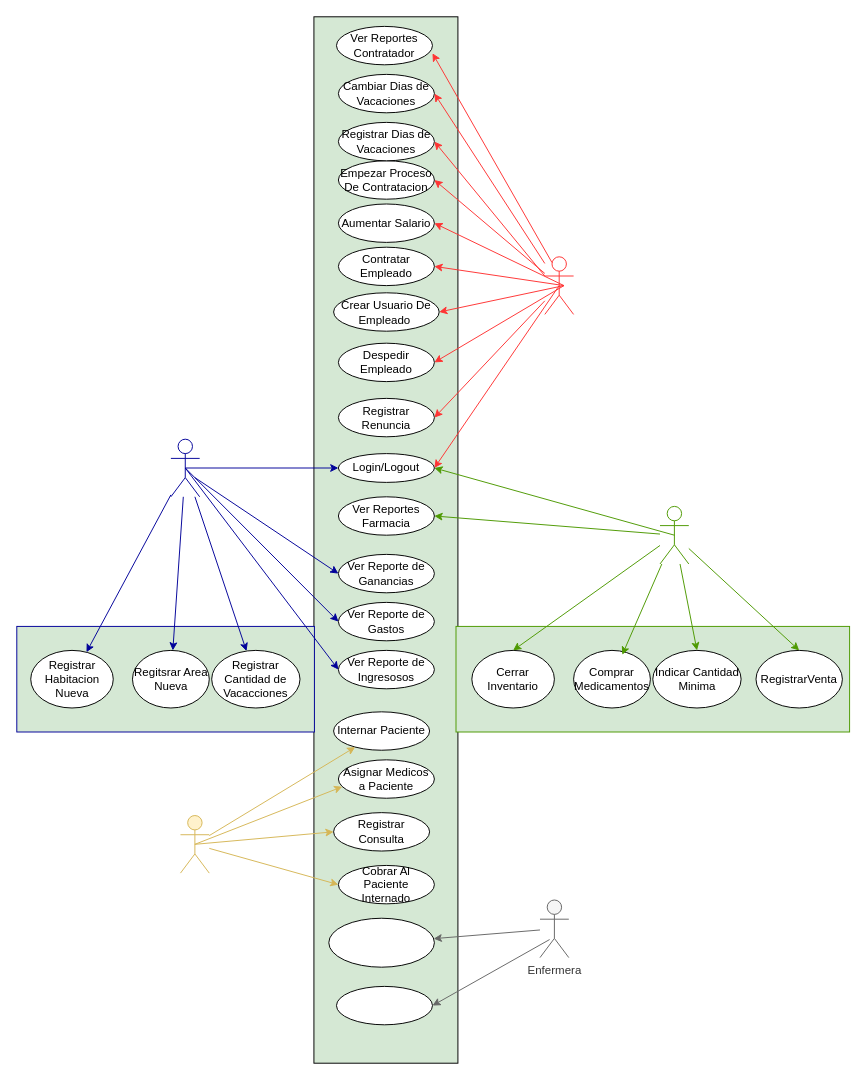
Some shapes in this 867 by 1080 pixel diagram are drawn without their labels. Here are the shapes that lost their labels. From the top down, the centre of each, then its label:
At point (559, 285): "Contratador".
At point (185, 467): "Administrador".
At point (674, 534): "Farmaceutico".
At point (194, 844): "Consultor".
At point (381, 942): "Registrar Medicamentos Consumidos / Paciente".
At point (384, 1005): "Dar de Alta a Paciente".
